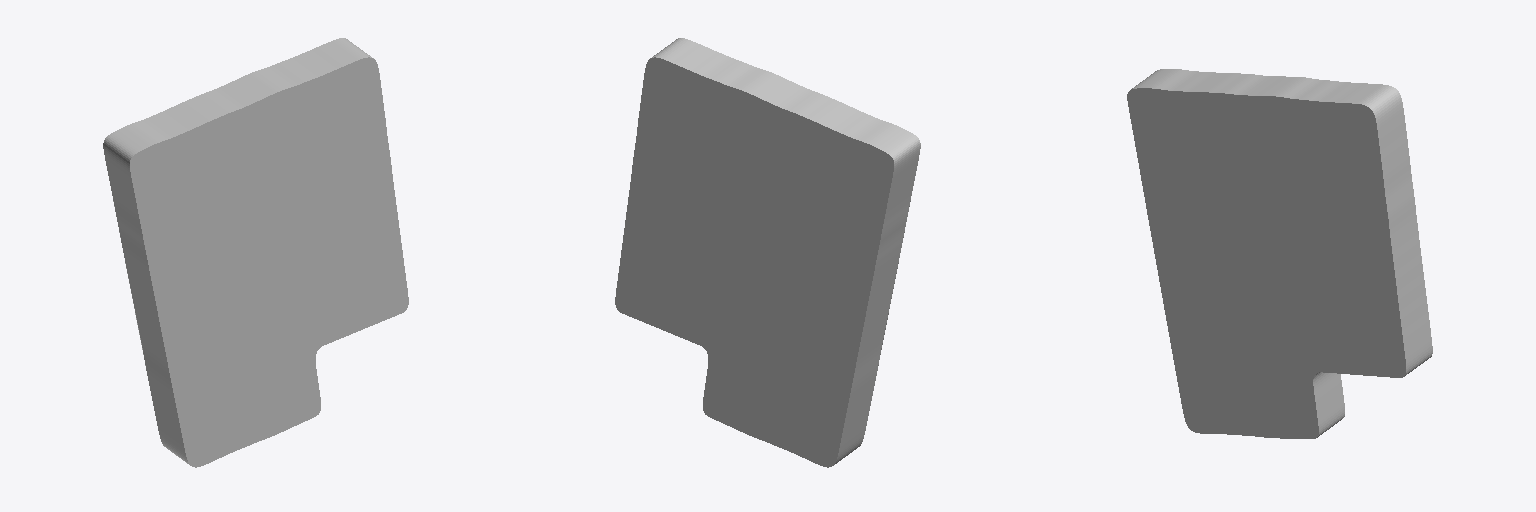
3 views of the same model, side by side, from view 1: azimuth 30°, elevation 25°; view 2: azimuth 150°, elevation 25°; view 3: azimuth 330°, elevation 25° (orthographic).
Parts seen in each view (by area): view 1: 平面; view 2: 平面; view 3: 平面.
Part boxes in pixels (bbox=[...]): 平面: bbox=[103, 38, 408, 467]; 平面: bbox=[615, 38, 920, 467]; 平面: bbox=[1127, 69, 1432, 438].
Size of the model in its own units: 1.22 by 1.54 by 0.2.